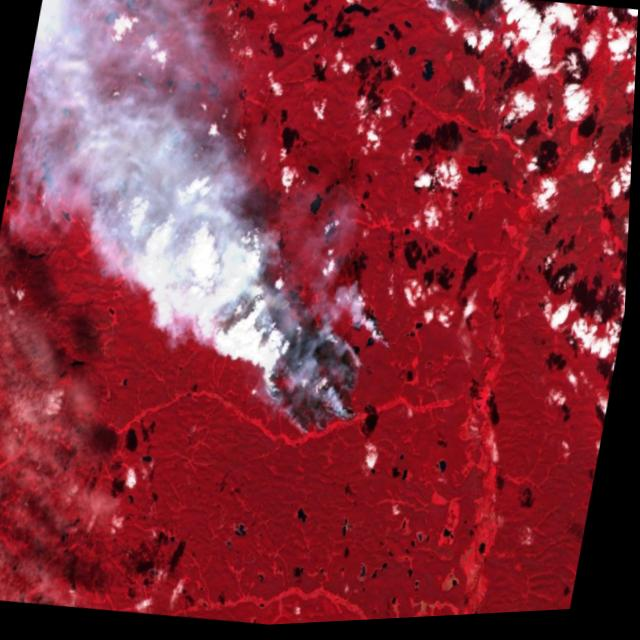fire: (239, 284, 400, 455), (417, 0, 515, 51)
